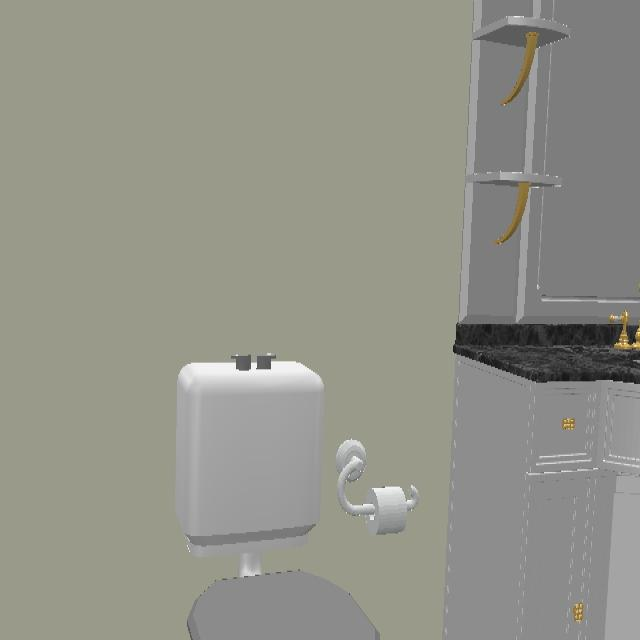toilet: (174, 355, 358, 640)
